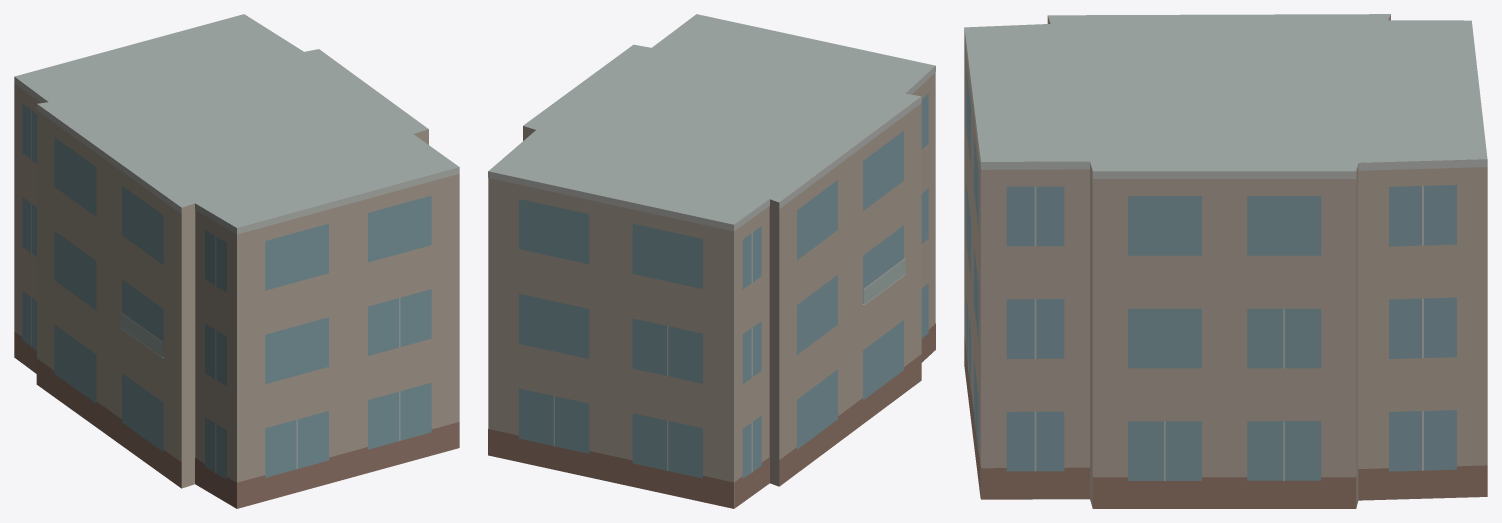
The model's file is survey-upis-32765228.glb.
The picture shows the model from 3 angles, left to right: view 1: azimuth 30°, elevation 25°; view 2: azimuth 150°, elevation 25°; view 3: azimuth 270°, elevation 25°; orthographic projection. The views are drawn at different scales.
Visible parts, largest first — view 1: survey-upis-32765228.tmp; view 2: survey-upis-32765228.tmp; view 3: survey-upis-32765228.tmp.
Boxes of the visible parts, x1,y1,x2,y2 form: survey-upis-32765228.tmp: [14, 14, 459, 508]; survey-upis-32765228.tmp: [488, 14, 935, 508]; survey-upis-32765228.tmp: [964, 14, 1487, 508].
Bounding box in the file's own units: 10.45 × 10.45 × 14.69.
